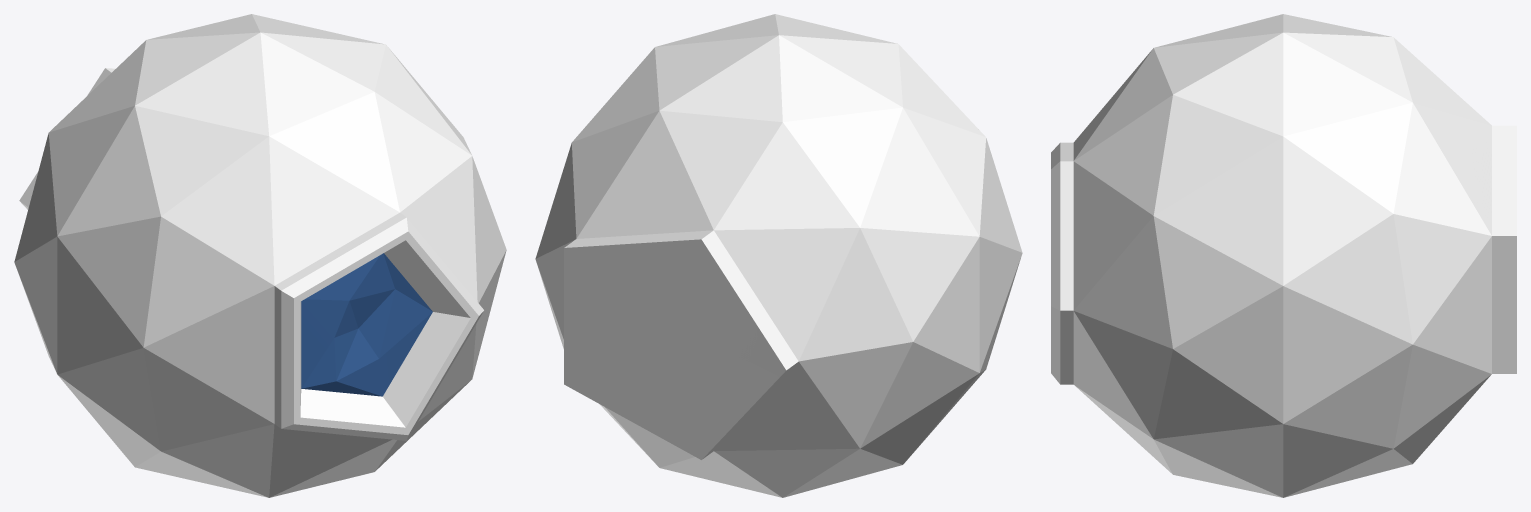
The model's file is Bowl.glb.
3 views of the same model, side by side, from view 1: azimuth 30°, elevation 25°; view 2: azimuth 150°, elevation 25°; view 3: azimuth 270°, elevation 25° (orthographic).
Visible parts, largest first — view 1: Bowl; view 2: Bowl; view 3: Bowl.
Boxes of the visible parts, x1,y1,x2,y2 form: Bowl: (14,14,506,497); Bowl: (535,14,1022,497); Bowl: (1051,14,1516,497).
Size of the model in its own units: 0.8244 by 0.8668 by 0.8192.
1 material, 1 textured.
